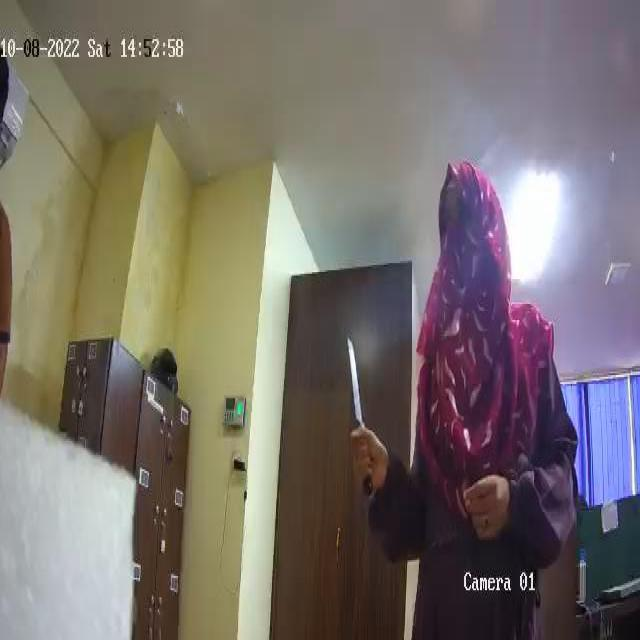Knife: (345, 334, 374, 496)
